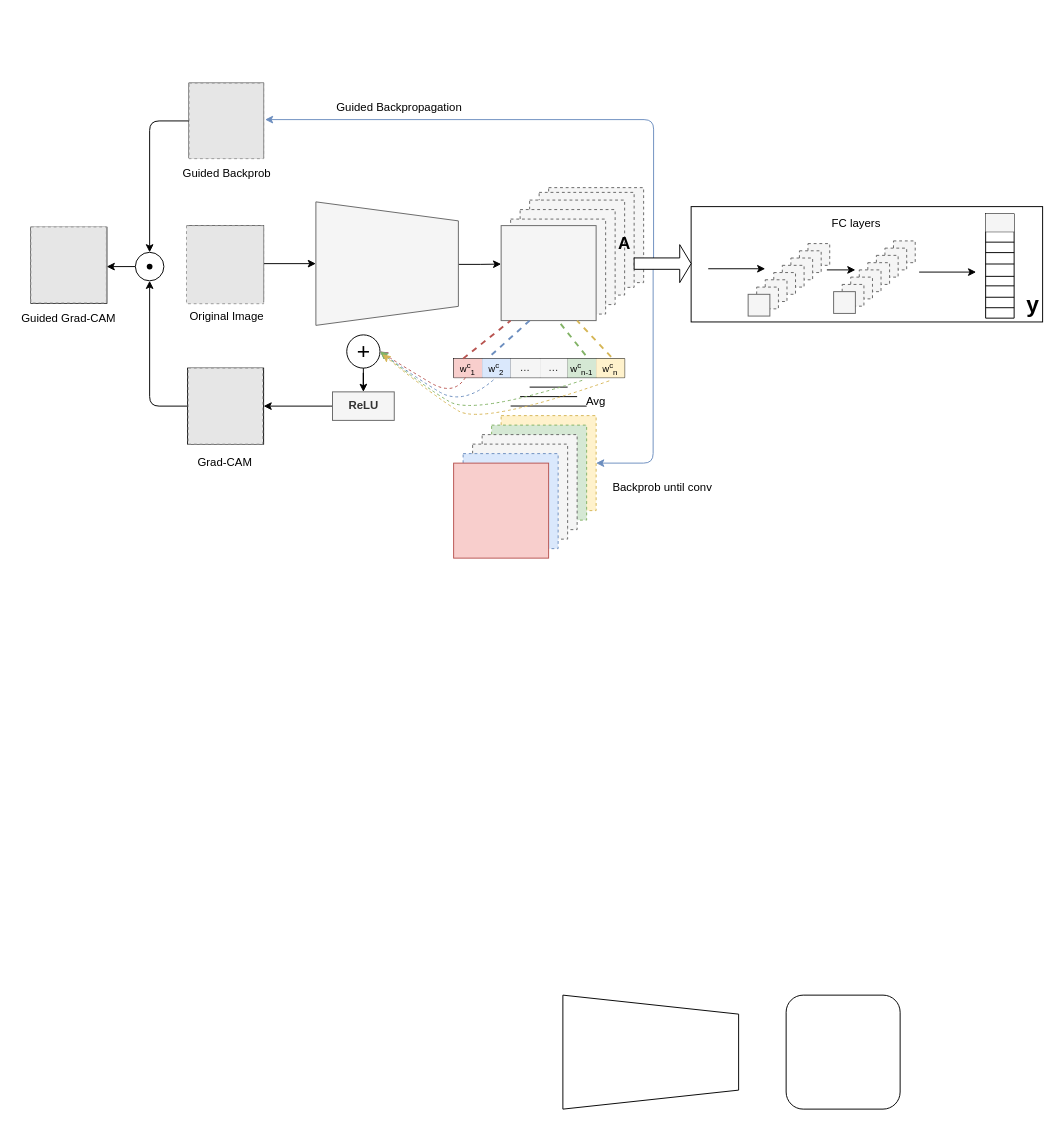
The diagram is 1059 pixels wide and 1126 high, and some of its shapes have lost their labels. Grey dashed boxes stand in for pictures. Here are the shapes that lost their labels. From the top down, the centre of each, then its label:
pixel 386 263: CNN
pixel 548 273: Rectified Conv Feature maps
